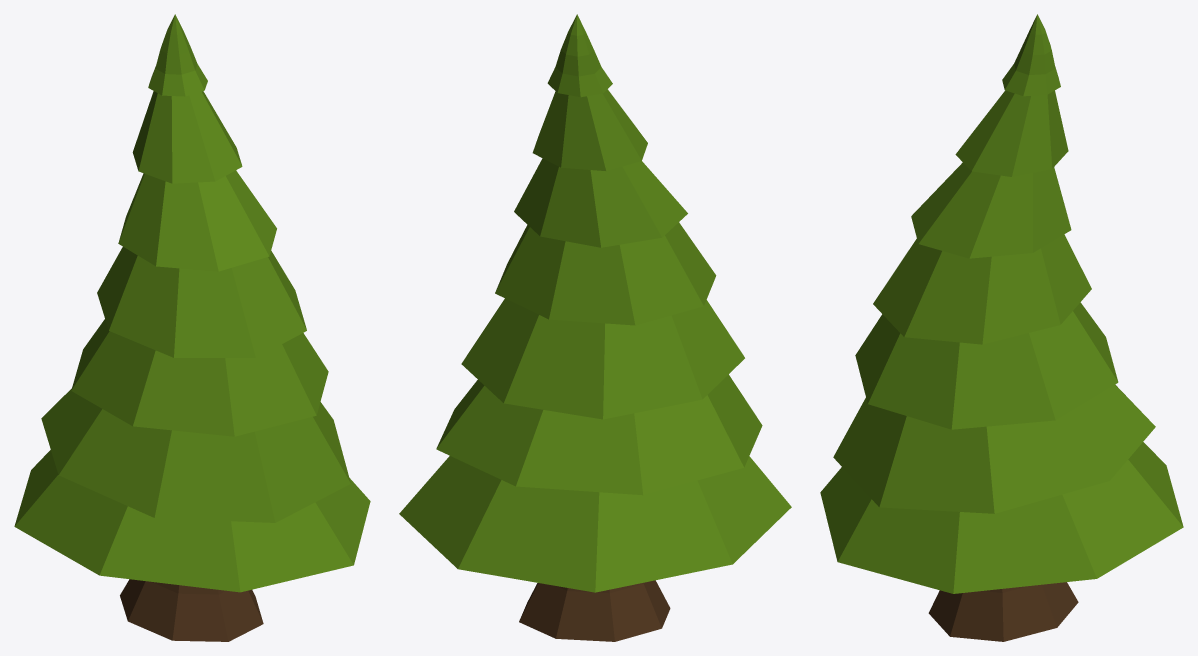
Rendered from Tree 002.fbx.
3 renders of one model, left to right at view 1: azimuth 30°, elevation 25°; view 2: azimuth 150°, elevation 25°; view 3: azimuth 270°, elevation 25°, orthographic. The views are drawn at different scales.
Parts seen in each view (by area): view 1: Cube.002; view 2: Cube.002; view 3: Cube.002.
Boxes of the visible parts, x1,y1,x2,y2 form: Cube.002: (14,14,370,641); Cube.002: (399,14,791,641); Cube.002: (820,14,1183,641).
Size of the model in its own units: 514 by 939 by 515.
